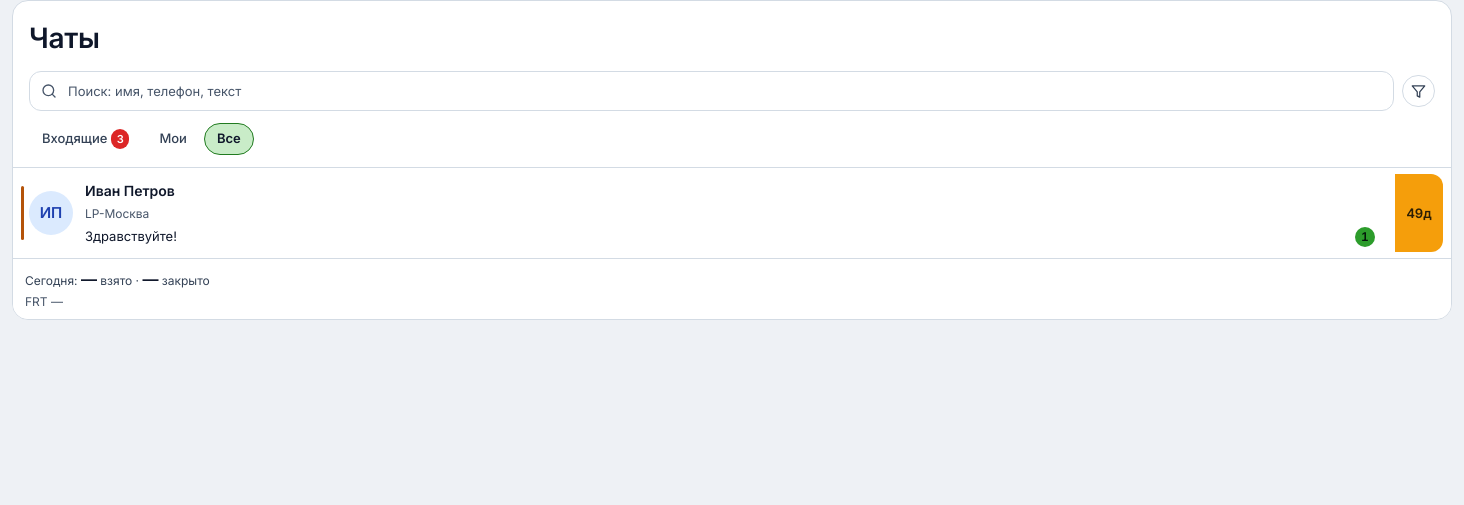
Test case: Вкладка «Входящие» › над очередью нет кнопки «Разгрузить» и предпросмотр не запрашивается
The image size is (1464, 505).
Expected: the text "Иван Петров" is shown, [85, 182, 175, 198]
Click the tab "Входящие 3" at coordinates (86, 139), box [29, 123, 142, 155]
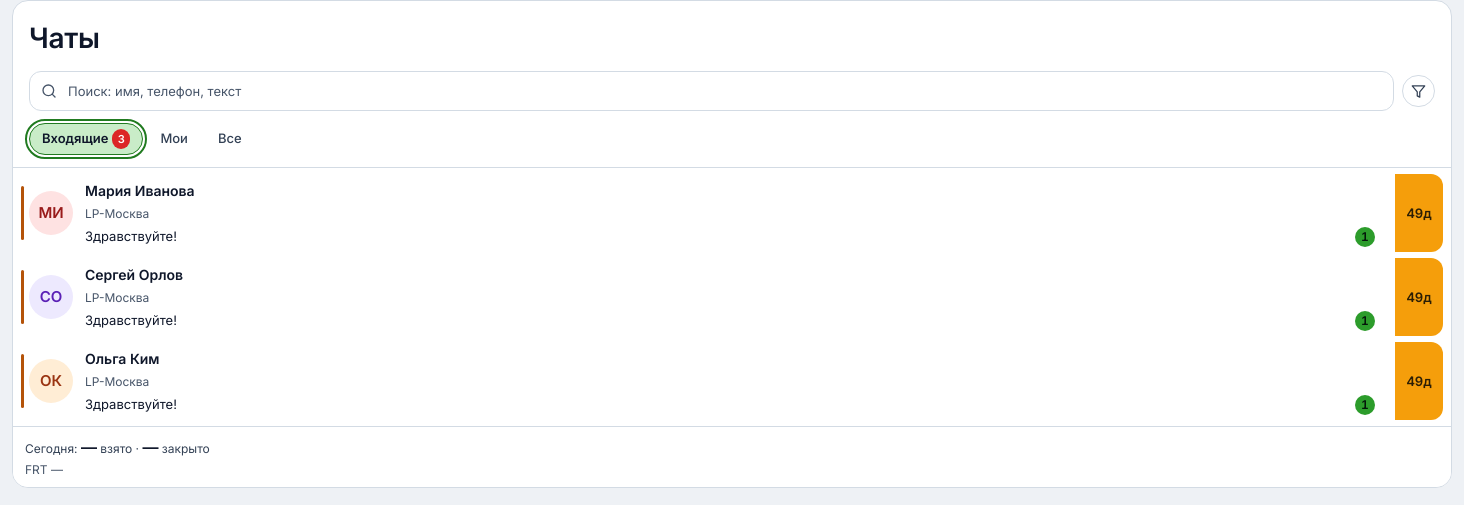
Now the text "Мария Иванова" is shown, box [85, 182, 195, 198]
